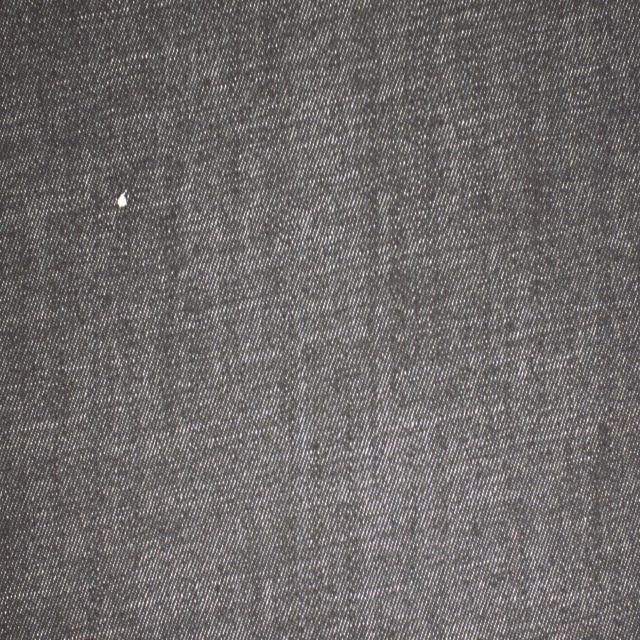Knot: (116, 190, 128, 208)
